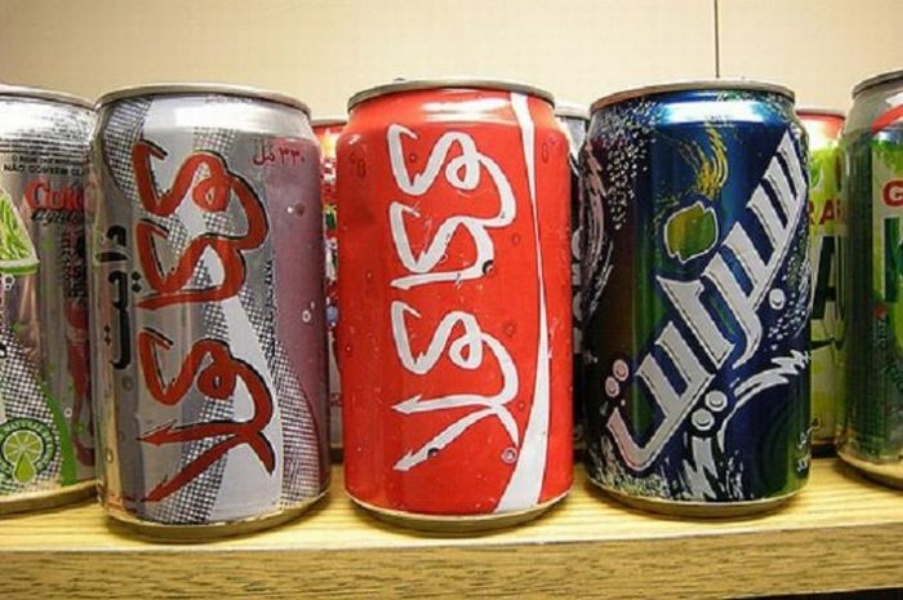text: (593, 99, 608, 504), (609, 99, 624, 504), (625, 99, 640, 504), (641, 99, 656, 504), (657, 99, 672, 504), (673, 99, 688, 504), (689, 99, 704, 504), (705, 99, 720, 504), (721, 99, 736, 504), (737, 99, 752, 504), (753, 99, 768, 504), (769, 99, 784, 504), (785, 99, 800, 504), (801, 99, 816, 504), (817, 99, 831, 504), (513, 126, 529, 477), (145, 139, 160, 511), (161, 139, 176, 511), (177, 139, 192, 511), (193, 139, 208, 511), (209, 139, 224, 511), (225, 139, 240, 511), (241, 139, 256, 511), (257, 139, 272, 511), (401, 126, 416, 477), (417, 126, 432, 477), (433, 126, 448, 477), (449, 126, 464, 477), (465, 126, 480, 477), (481, 126, 496, 477), (497, 126, 512, 477), (130, 139, 144, 511), (386, 126, 400, 477), (580, 99, 592, 504), (97, 222, 112, 372), (113, 222, 128, 372), (273, 139, 278, 511), (129, 222, 141, 372), (1, 413, 16, 475), (17, 413, 32, 475), (33, 413, 48, 475), (81, 136, 97, 182), (17, 136, 32, 182), (33, 136, 48, 182), (49, 136, 64, 182), (65, 136, 80, 182), (2, 136, 16, 182), (33, 181, 48, 212), (49, 181, 64, 212), (65, 181, 80, 212), (257, 141, 272, 168), (273, 141, 288, 168), (289, 141, 304, 168), (33, 204, 48, 230), (49, 204, 64, 230), (65, 204, 80, 230), (49, 413, 53, 475), (95, 222, 96, 372), (81, 204, 86, 230), (28, 181, 32, 212), (305, 141, 308, 168), (29, 204, 32, 230), (81, 181, 82, 212), (255, 141, 256, 168)
